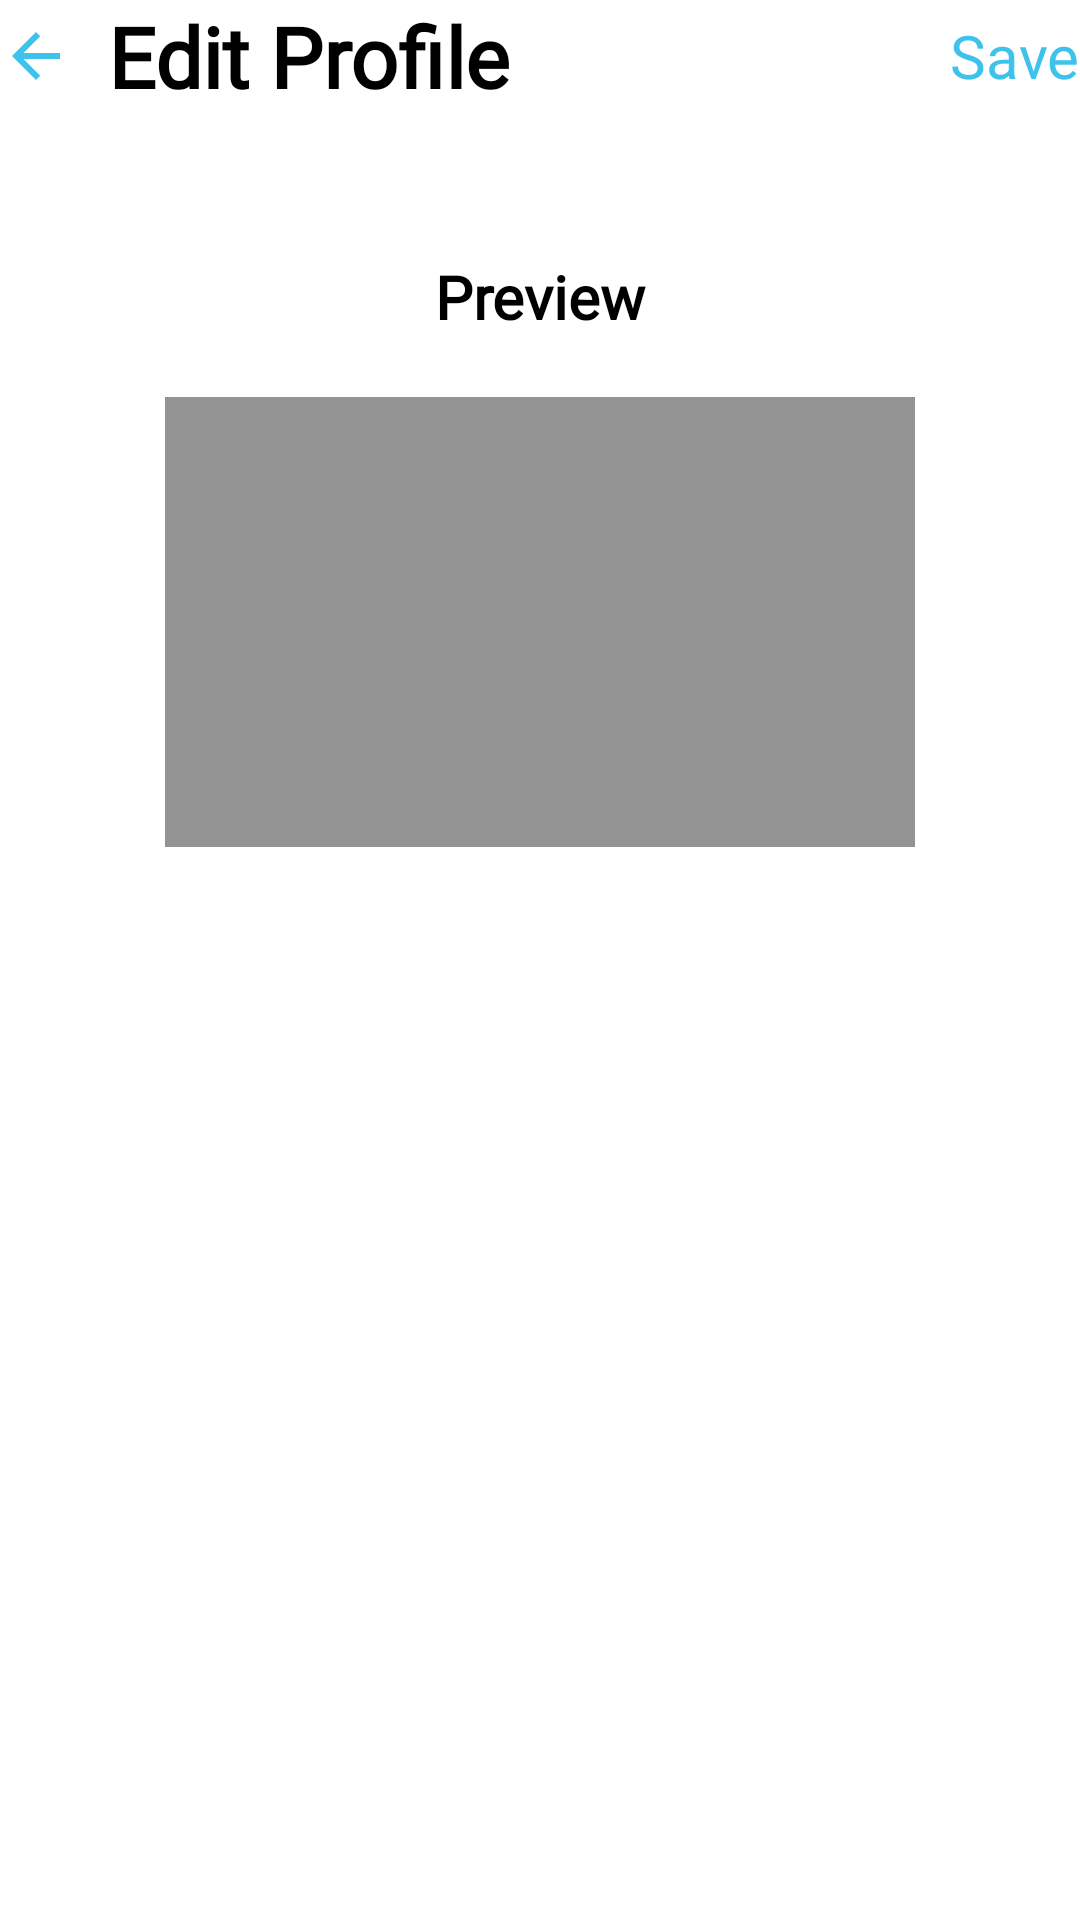

Screen size 1080*1920. Icon name, then its center in pixels as point (x, y):
back: point (36, 56)
